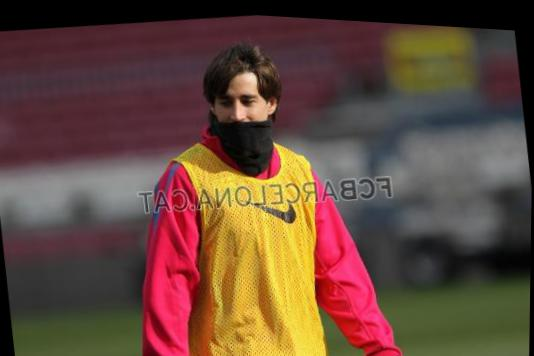WRONG: (212, 83, 272, 145)
